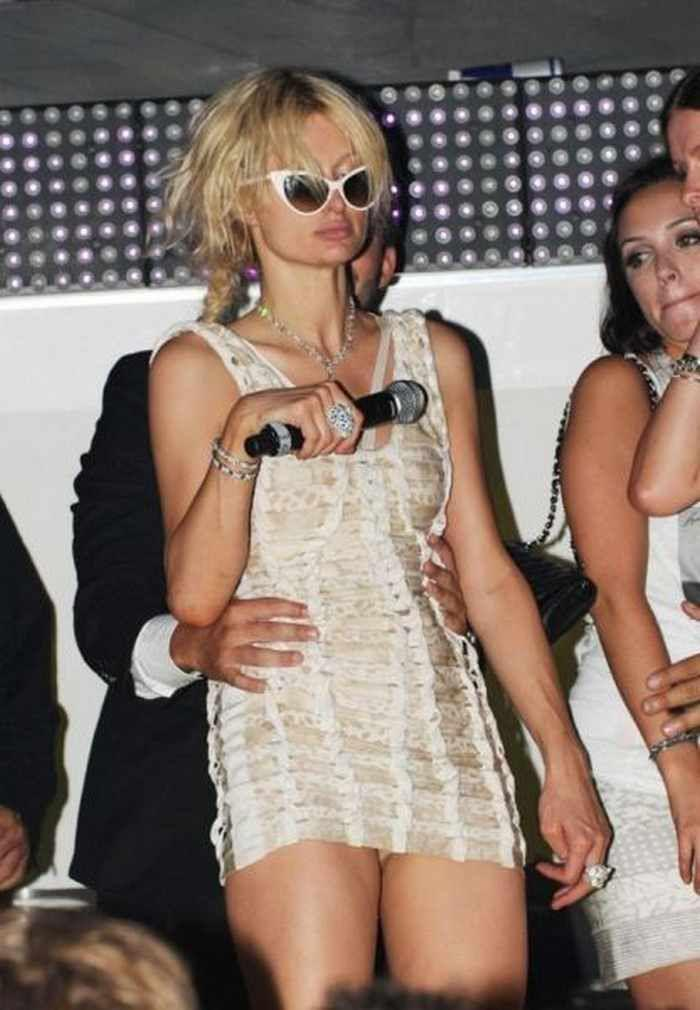Drunk: (263, 118, 377, 263)
